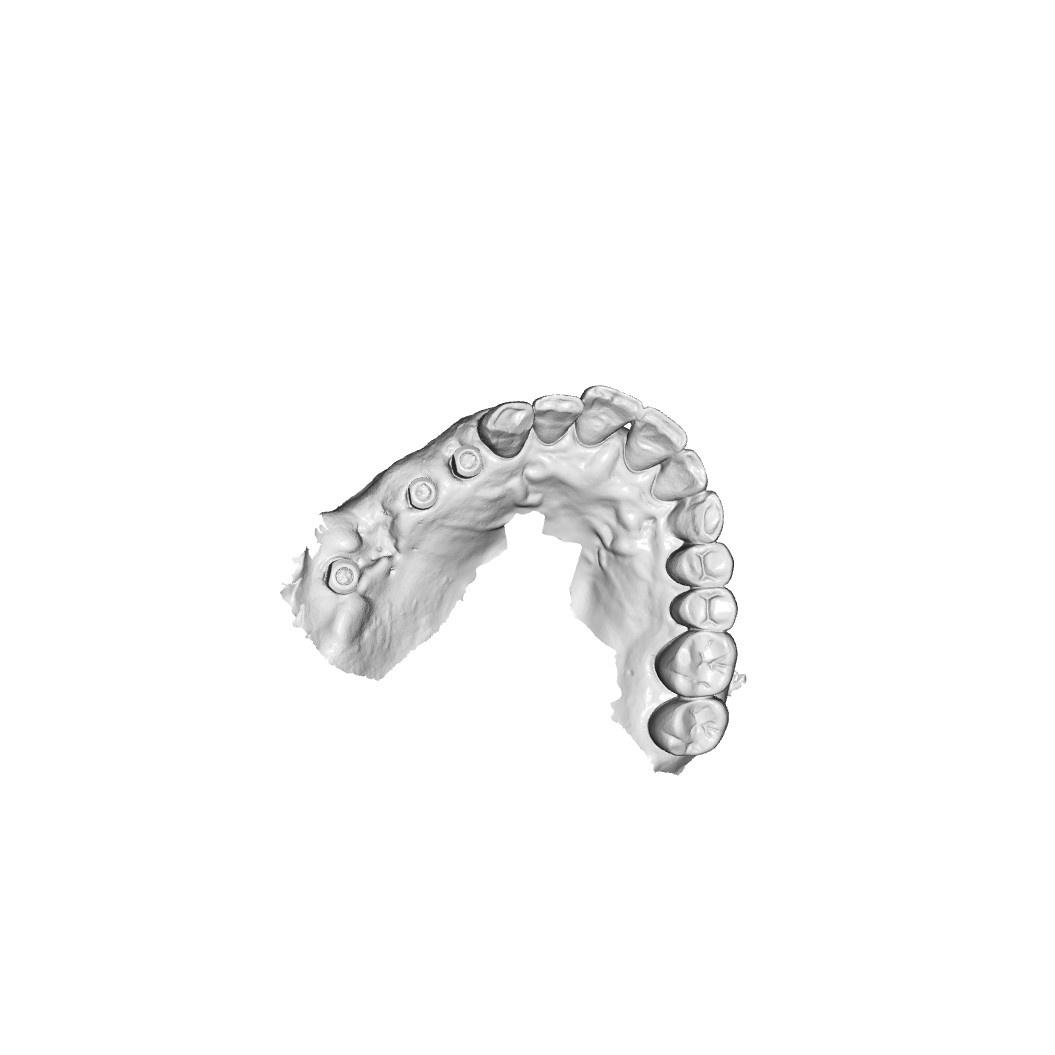canine: (477, 398, 537, 460), (667, 491, 724, 543)
implant: (446, 441, 488, 482), (323, 555, 364, 595), (407, 474, 440, 511)
incisor: (622, 407, 685, 471), (574, 384, 640, 444), (651, 449, 706, 503), (533, 392, 583, 444)
molar: (655, 630, 739, 697), (645, 698, 728, 759)
premolar: (670, 586, 740, 633), (666, 542, 733, 590)
